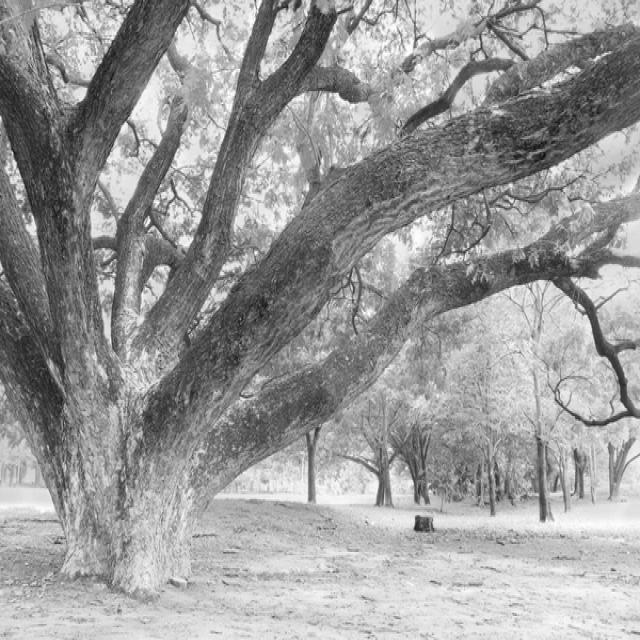Tree: (0, 0, 640, 596), (392, 322, 464, 504), (511, 282, 556, 522), (336, 382, 404, 508), (472, 302, 507, 516)
